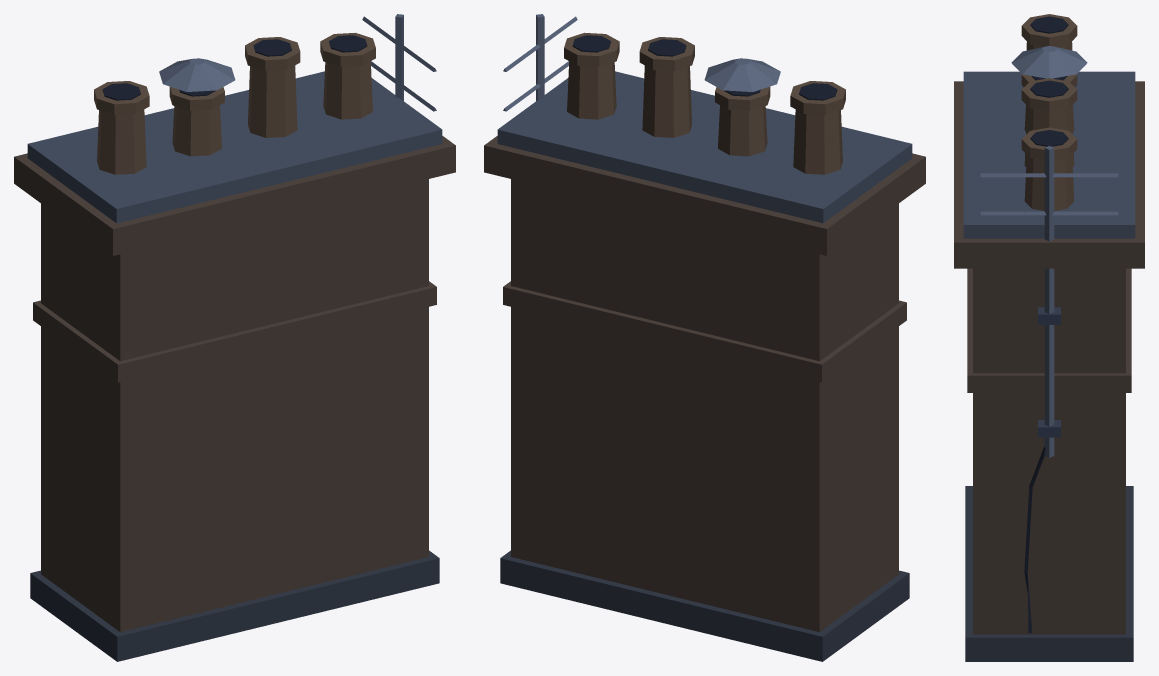
File: roof_chimney_stack.glb
The picture shows the model from 3 angles, left to right: view 1: azimuth 30°, elevation 25°; view 2: azimuth 150°, elevation 25°; view 3: azimuth 270°, elevation 25°; orthographic projection. The views are drawn at different scales.
Visible parts, largest first — view 1: stack, cap, pot, flashing, cowl, pot_throat; view 2: stack, cap, pot, flashing, cowl, pot_throat; view 3: stack, cap, flashing, pot, cowl, pot_throat, strap.
Part boxes in pixels (x1,y1,x2,y2): stack: [14, 136, 455, 632]; cap: [27, 71, 442, 223]; pot: [94, 32, 375, 174]; flashing: [30, 550, 439, 661]; cowl: [159, 14, 436, 111]; pot_throat: [102, 35, 367, 100]; stack: [484, 136, 925, 632]; cap: [497, 71, 912, 223]; pot: [564, 32, 845, 174]; flashing: [500, 550, 909, 661]; cowl: [503, 14, 780, 111]; pot_throat: [572, 35, 837, 100]; stack: [954, 81, 1144, 634]; cap: [963, 71, 1135, 238]; flashing: [965, 486, 1133, 661]; pot: [1021, 14, 1077, 210]; cowl: [980, 46, 1118, 457]; pot_throat: [1024, 16, 1068, 633]; strap: [1038, 307, 1060, 437].
Size of the model in its own units: 2 by 3 by 1.
